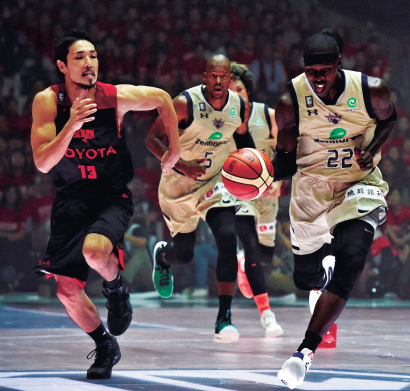ball: (221, 146, 275, 200)
player: (27, 29, 158, 379), (273, 34, 388, 383), (144, 54, 240, 347), (233, 60, 278, 296)
